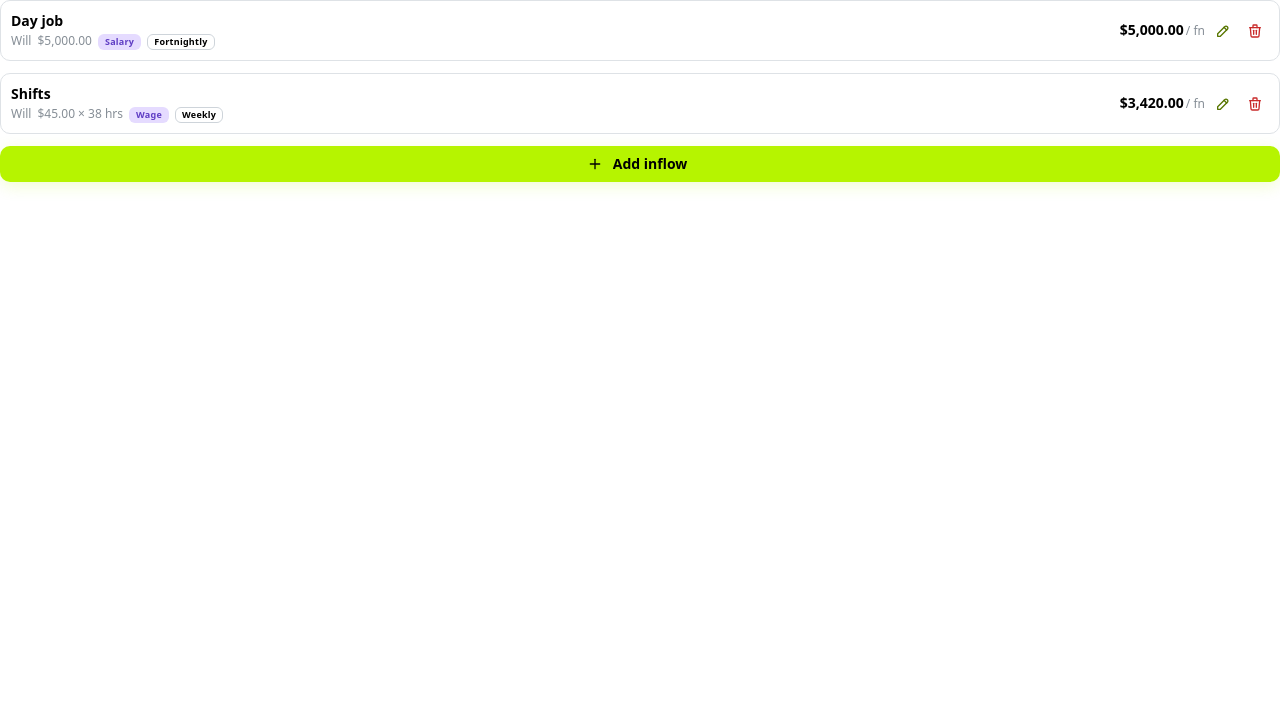
InflowList › keeps only one card in edit mode, leaving the others displayed
Click the button named "edit" in the row of "Fortnightly" at [1223, 30], box [1209, 16, 1237, 44]
(page scrolled)
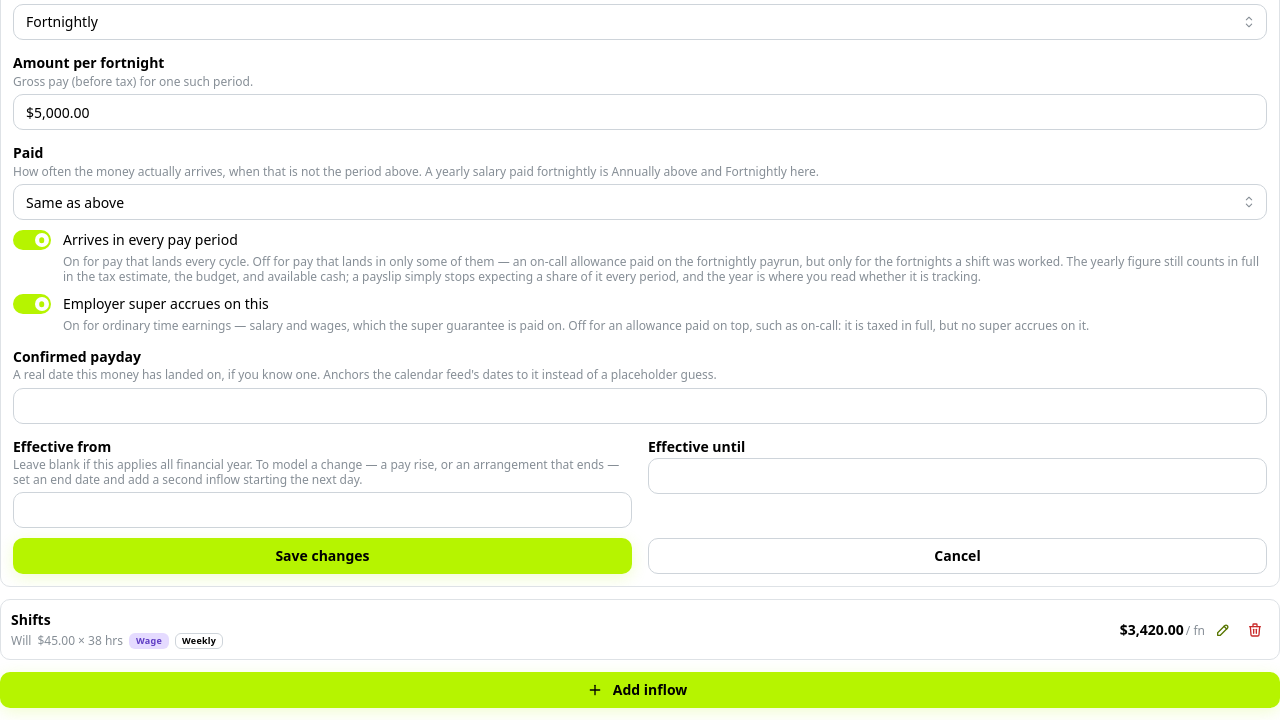
Expected: the number of buttons named "edit" is 1, [1209, 616, 1237, 644]
Now the button "Save changes" is shown, box [13, 538, 632, 574]
